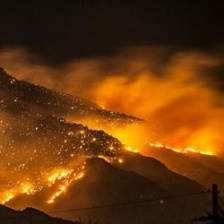fire: (144, 138, 216, 157), (44, 169, 76, 197), (2, 186, 34, 201), (123, 146, 141, 154)
smoke: (89, 47, 206, 122)
